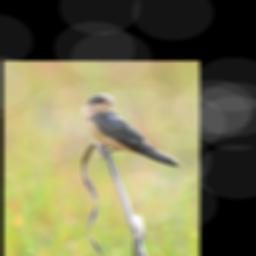Swallow: (81, 89, 189, 171)
